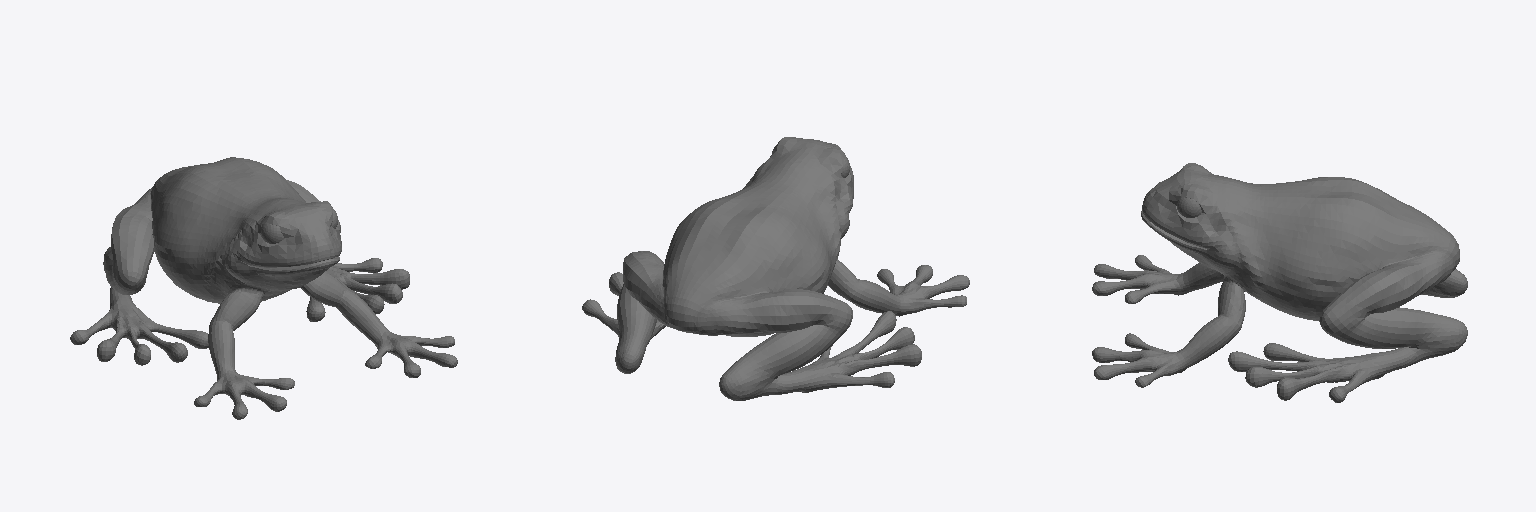
File: treefrog.obj
3 views of the same model, side by side, from view 1: azimuth 30°, elevation 25°; view 2: azimuth 150°, elevation 25°; view 3: azimuth 270°, elevation 25° (orthographic).
Parts seen in each view (by area): view 1: PolySphere2_3; view 2: PolySphere2_3; view 3: PolySphere2_3.
Part boxes in pixels (x1,y1,x2,y2): PolySphere2_3: (70,157,457,419); PolySphere2_3: (582,137,969,400); PolySphere2_3: (1092,163,1467,402).
Size of the model in its own units: 0.4494 by 0.2212 by 0.4695.